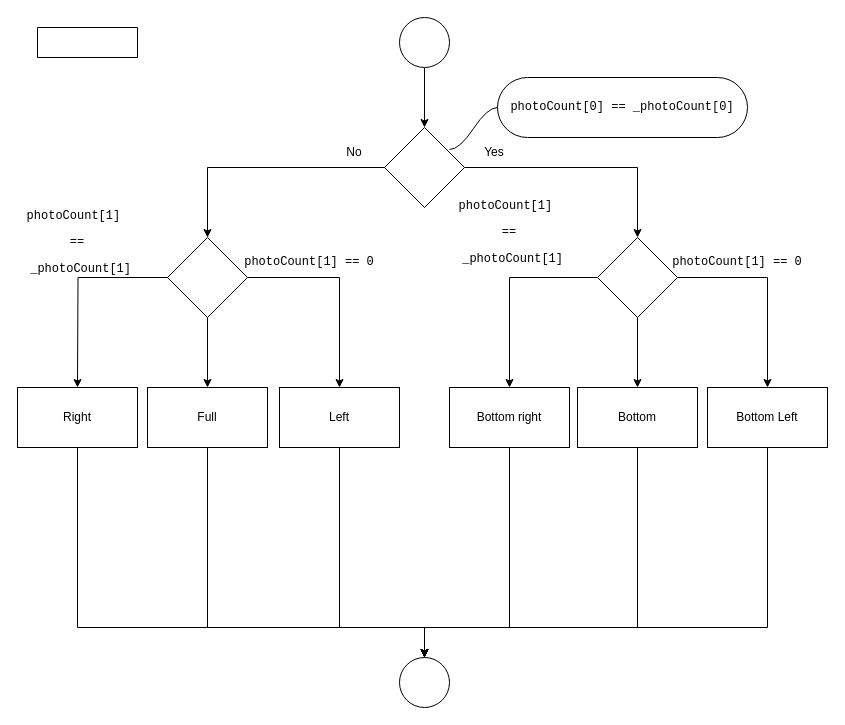
The diagram is 845 pixels wide and 725 high, and some of its shapes have lost their labels. The box of each missing label's shape, as (x1, y1, x2, y2) in pixels:
Czy bottom: (384, 126, 464, 208)
Typy zdjec: (36, 26, 138, 58)
